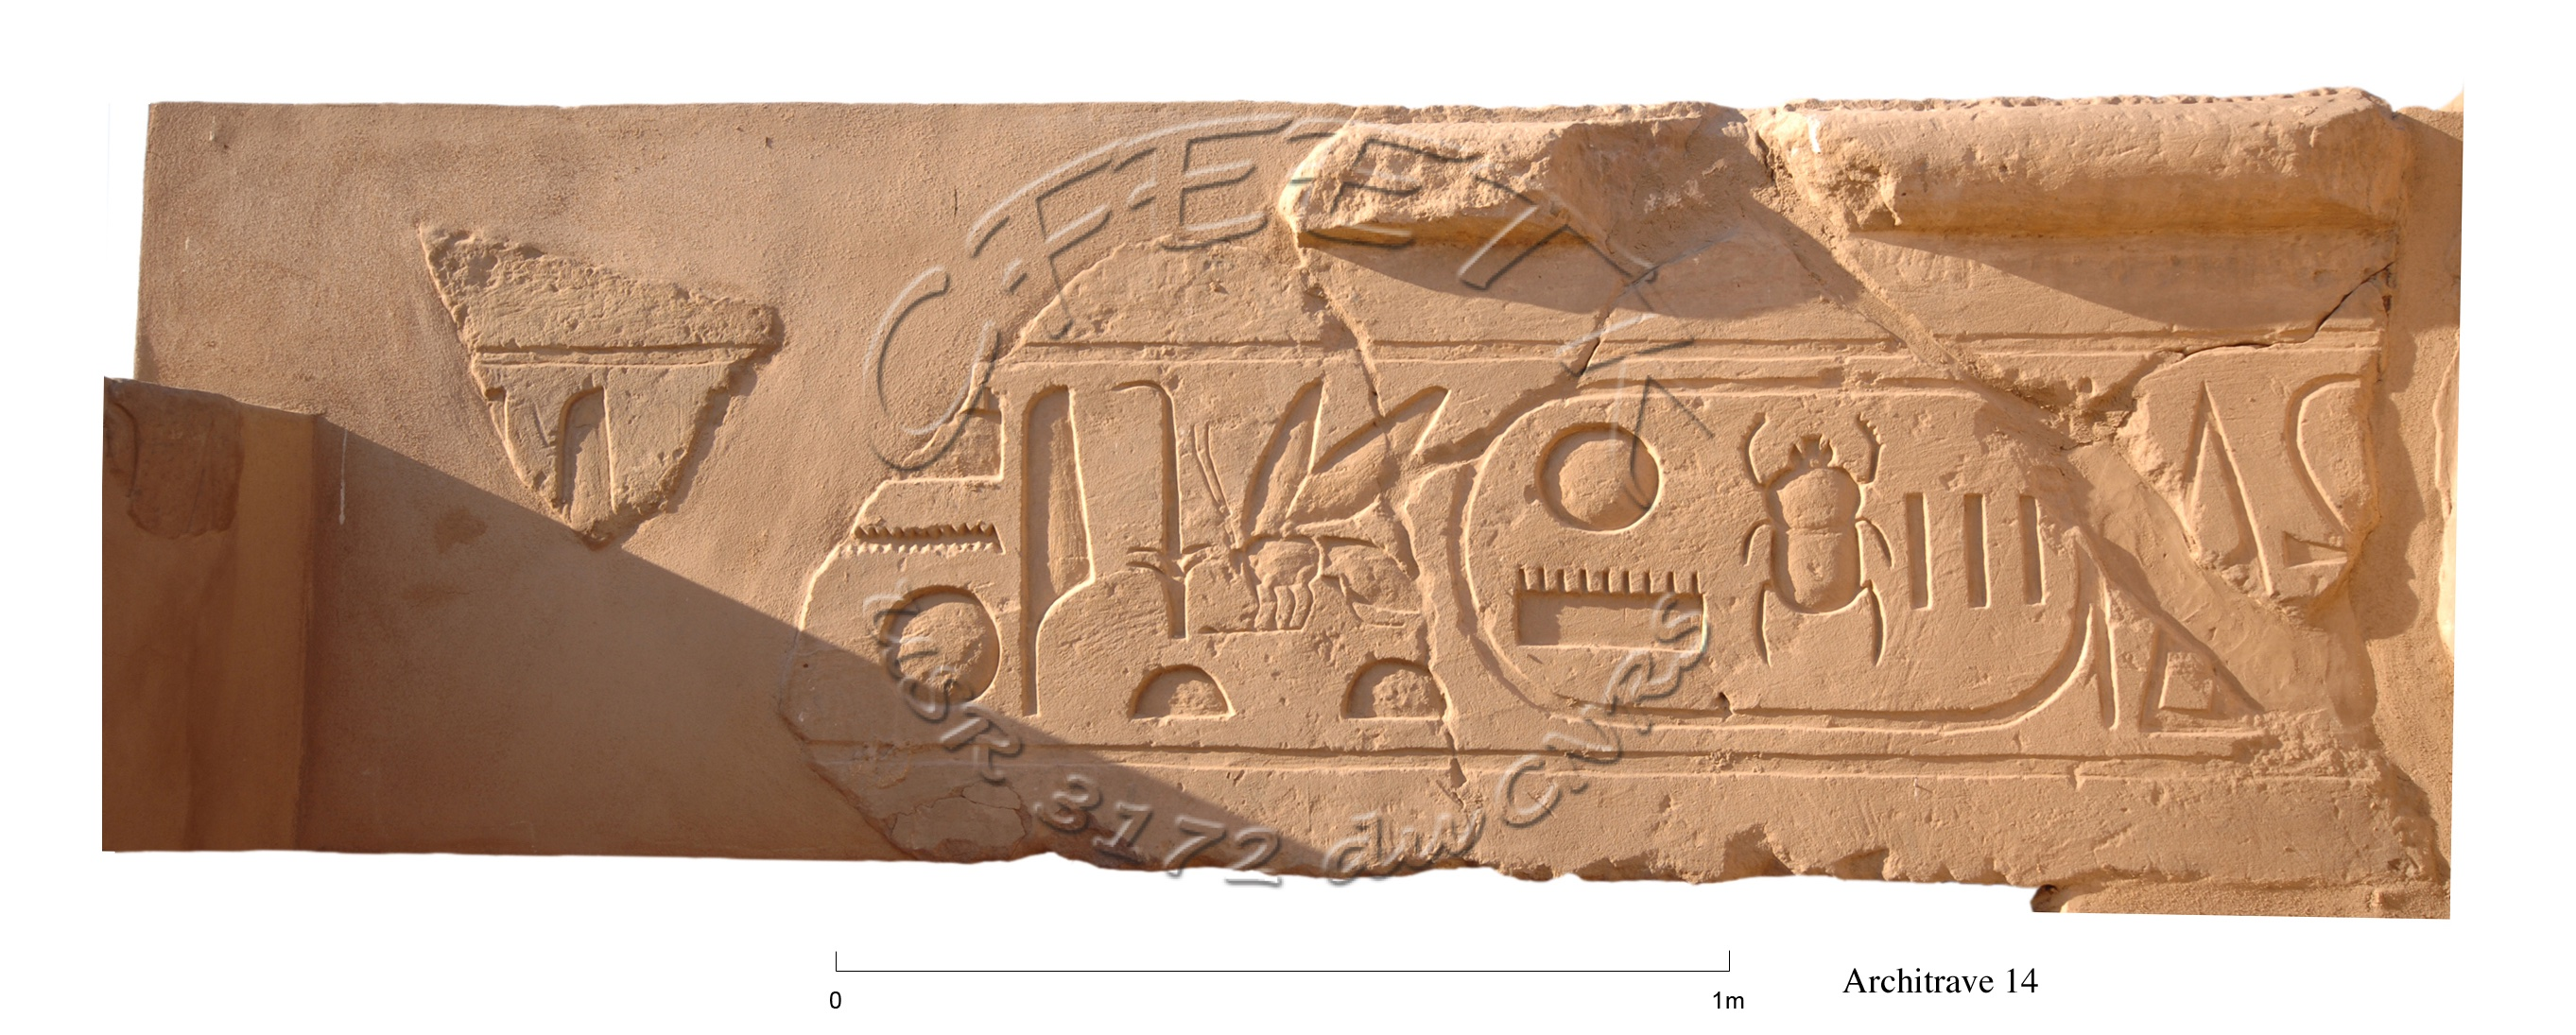M17: (996, 375, 1097, 721), (534, 376, 649, 572)
N35: (818, 509, 1009, 577)
X8: (2132, 371, 2311, 751)
